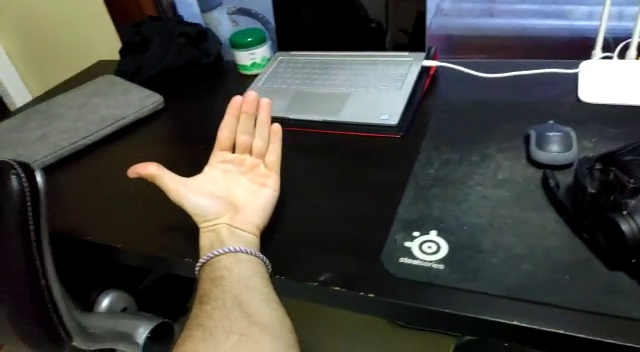Palm: (125, 89, 284, 229)
